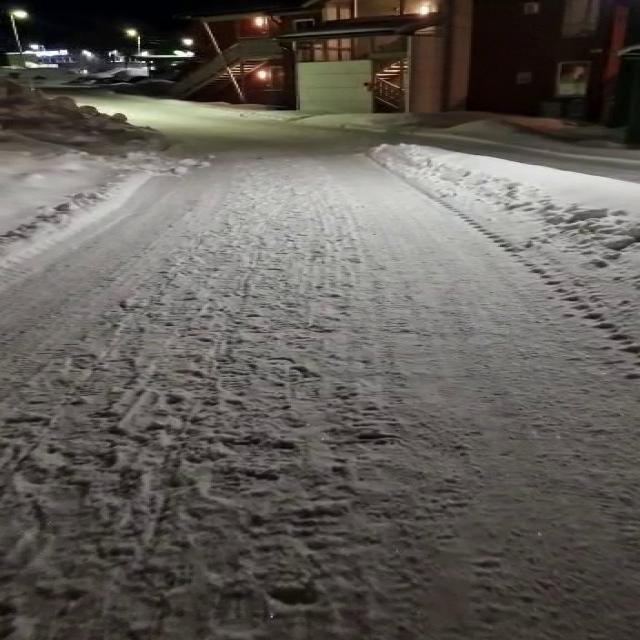path: (2, 96, 638, 640)
